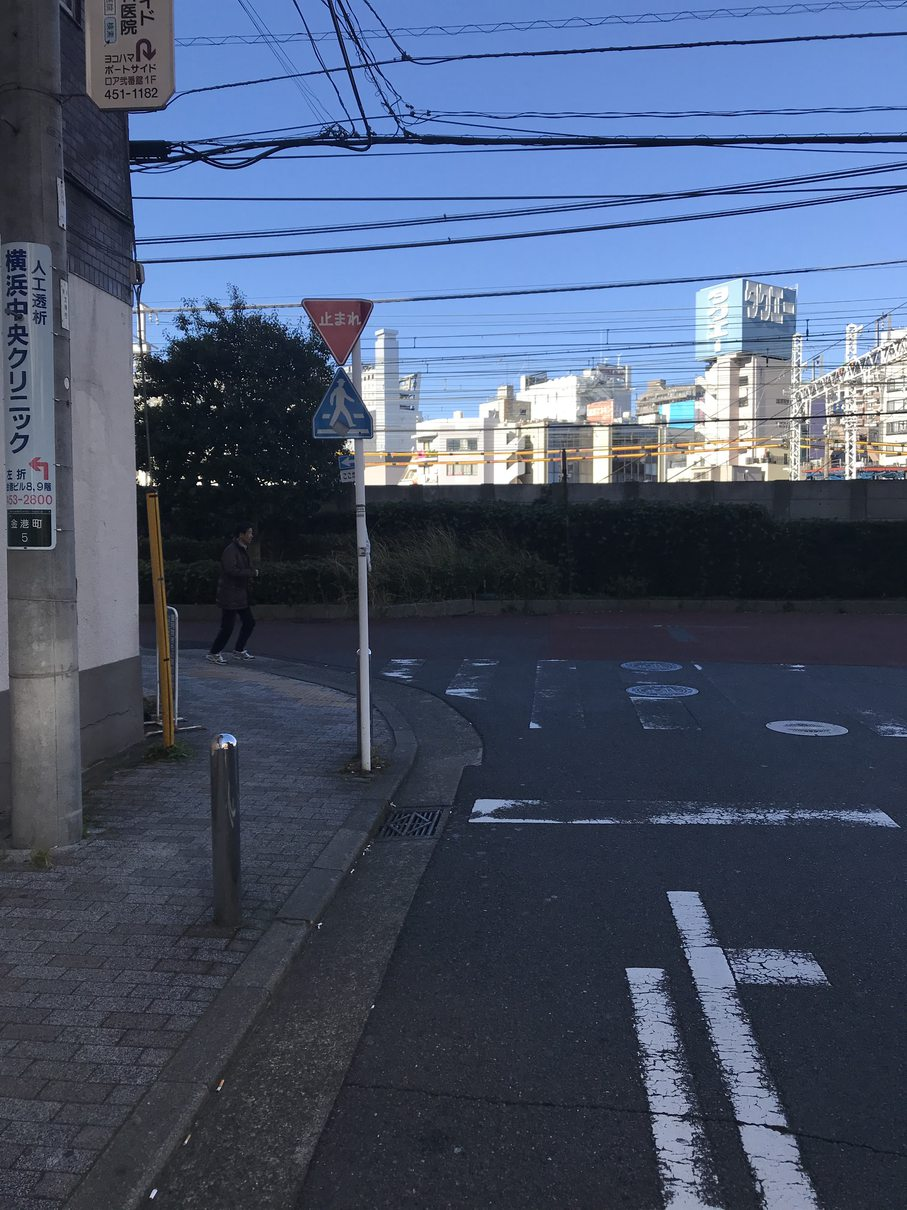stop_sign: (298, 294, 376, 367)
